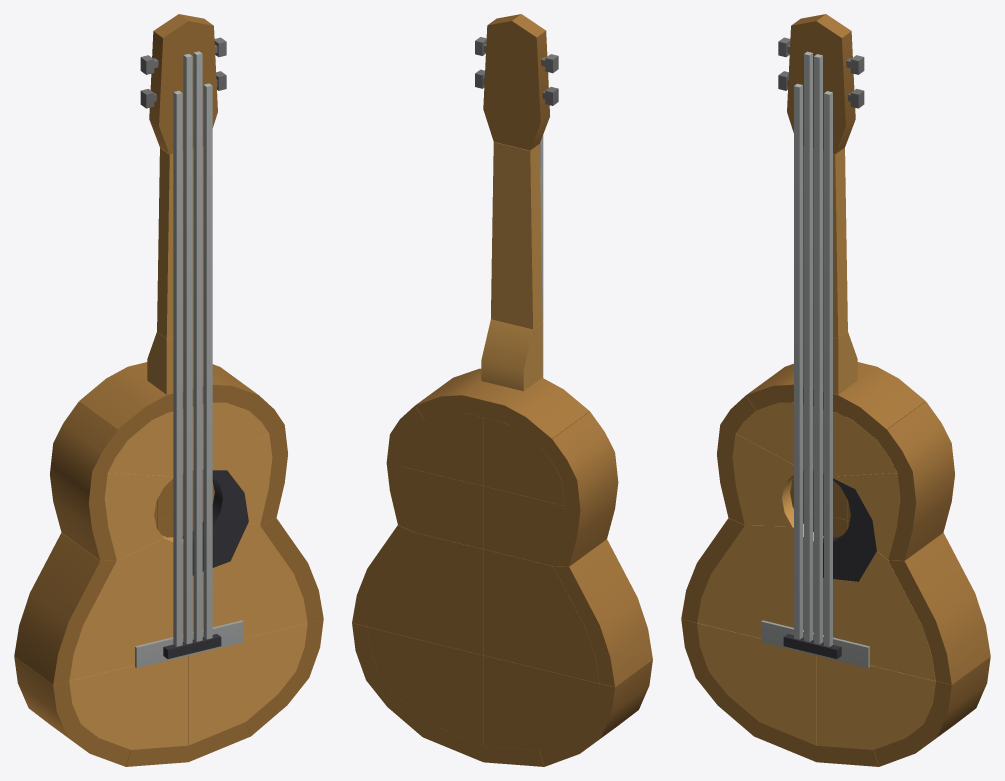
Rendered from Level_P_7.fbx.
3 renders of one model, left to right at view 1: azimuth 30°, elevation 25°; view 2: azimuth 150°, elevation 25°; view 3: azimuth 330°, elevation 25°, orthographic. The views are drawn at different scales.
Parts seen in each view (by area): view 1: Cube.248, Plane.023, Plane.021, Plane.020, Plane.001, Plane.002, Plane.022, Plane.026, Plane.024, Plane.006, Plane.019, Plane.003 (+10 smaller); view 2: Plane.016, Plane.013, Plane.003, Plane.015, Plane.014, Plane.001, Plane.026, Plane.002, Plane.006, Plane.017, Plane.012, Plane.011 (+8 smaller); view 3: Cube.248, Plane.020, Plane.021, Plane.023, Plane.007, Plane.005, Plane.022, Plane.026, Plane.006, Plane.024, Plane.019, Plane.008 (+10 smaller).
Boxes of the visible parts, x1=… form: Cube.248: x1=173, y1=51, x2=212, y2=646; Plane.023: x1=69, y1=535, x2=183, y2=681; Plane.021: x1=69, y1=656, x2=188, y2=749; Plane.020: x1=188, y1=623, x2=307, y2=745; Plane.001: x1=14, y1=532, x2=116, y2=684; Plane.002: x1=50, y1=401, x2=127, y2=560; Plane.022: x1=192, y1=521, x2=307, y2=638; Plane.026: x1=149, y1=14, x2=217, y2=154; Plane.024: x1=107, y1=402, x2=268, y2=476; Plane.006: x1=79, y1=362, x2=258, y2=439; Plane.019: x1=104, y1=473, x2=173, y2=560; Plane.003: x1=157, y1=146, x2=203, y2=338; Plane.016: x1=483, y1=549, x2=599, y2=683; Plane.013: x1=367, y1=532, x2=483, y2=655; Plane.003: x1=491, y1=142, x2=542, y2=329; Plane.015: x1=483, y1=655, x2=599, y2=750; Plane.014: x1=367, y1=627, x2=483, y2=745; Plane.001: x1=553, y1=539, x2=652, y2=686; Plane.026: x1=483, y1=14, x2=549, y2=150; Plane.002: x1=542, y1=411, x2=618, y2=566; Plane.006: x1=415, y1=368, x2=589, y2=448; Plane.017: x1=483, y1=486, x2=564, y2=565; Plane.012: x1=402, y1=466, x2=483, y2=548; Plane.011: x1=402, y1=412, x2=483, y2=485; Cube.248: x1=794, y1=51, x2=832, y2=646; Plane.020: x1=816, y1=656, x2=935, y2=749; Plane.021: x1=697, y1=623, x2=816, y2=745; Plane.023: x1=697, y1=523, x2=823, y2=638; Plane.007: x1=888, y1=532, x2=990, y2=684; Plane.005: x1=877, y1=401, x2=954, y2=560; Plane.022: x1=823, y1=551, x2=935, y2=681; Plane.026: x1=787, y1=14, x2=855, y2=154; Plane.006: x1=746, y1=362, x2=925, y2=439; Plane.024: x1=736, y1=402, x2=897, y2=476; Plane.019: x1=732, y1=434, x2=793, y2=526; Plane.008: x1=874, y1=656, x2=990, y2=766.
Bounding box in the file's own units: 1.89 × 4.95 × 0.547.
